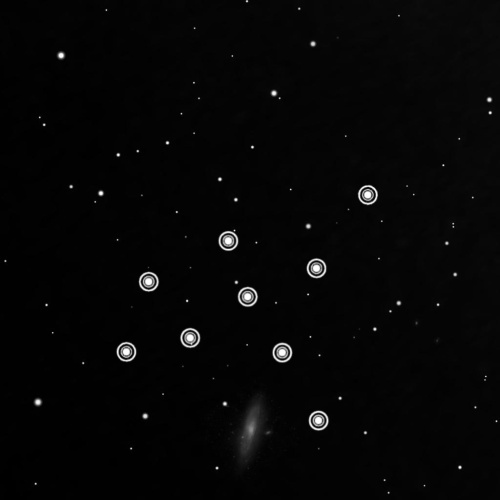cygnus: (112, 179, 384, 436)
